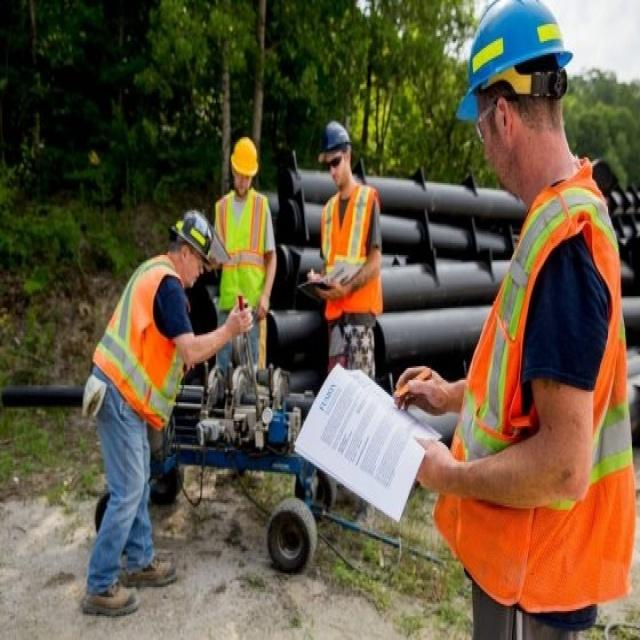helmet: (459, 1, 578, 255), (169, 276, 212, 383), (317, 160, 356, 252), (229, 181, 257, 268)
vest: (434, 248, 639, 640), (102, 339, 191, 552), (213, 249, 275, 420), (318, 251, 380, 421)
